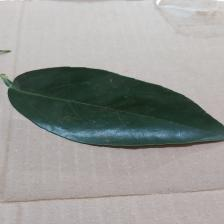healthy: (21, 58, 217, 158)
